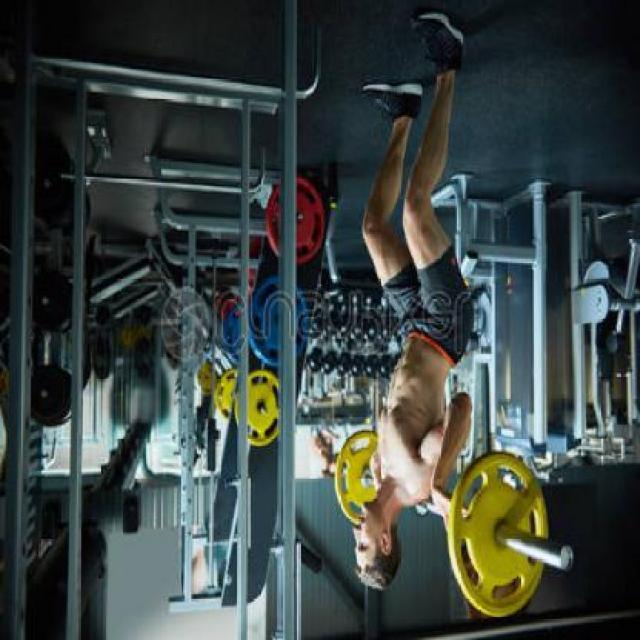Barbell: (556, 542, 576, 576)
